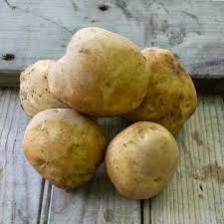Defected potato: (46, 27, 152, 120), (20, 107, 106, 193), (104, 118, 181, 201)
